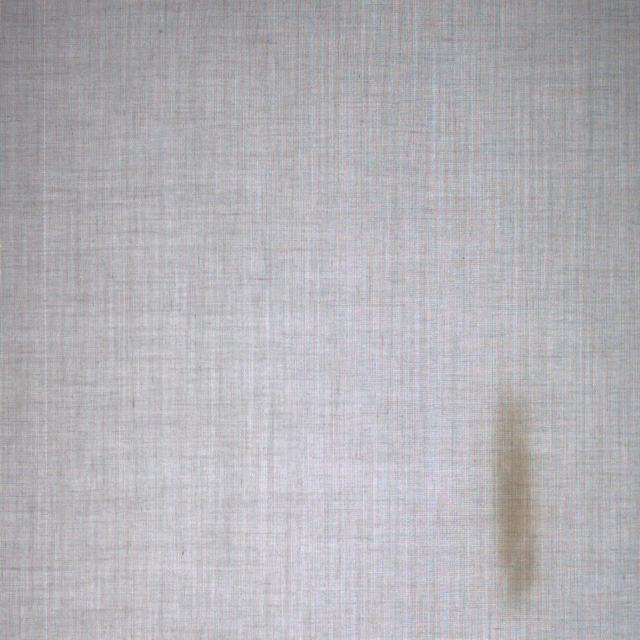dirty: (494, 391, 536, 588)
